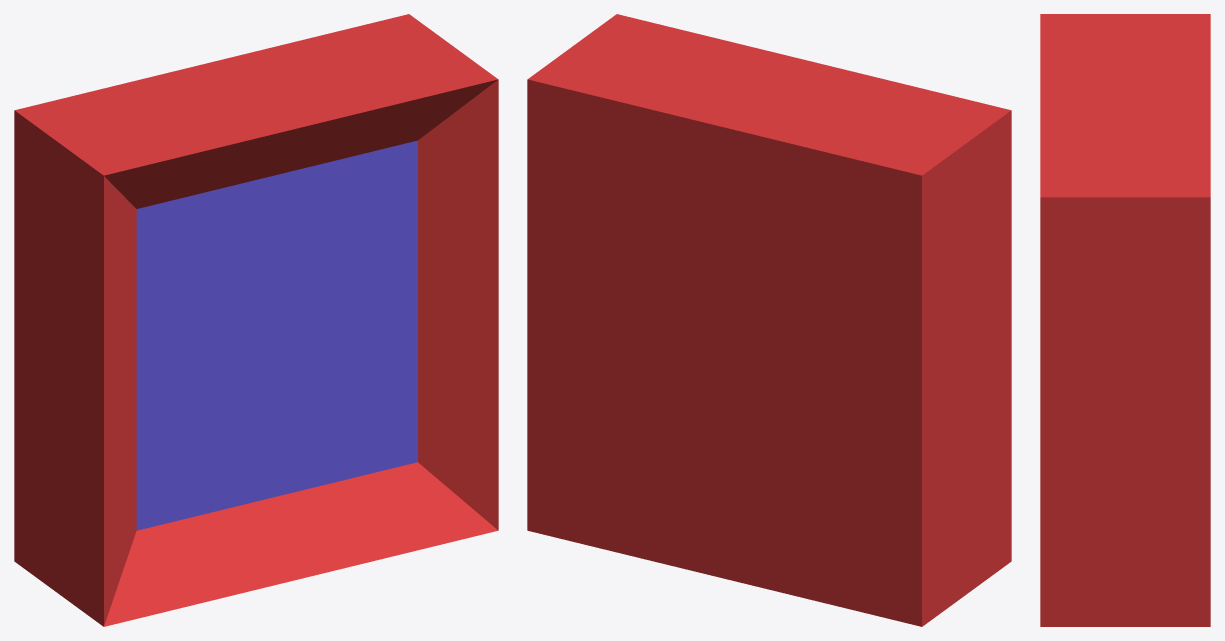
The model's file is MirrorUV.fbx.
3 views of the same model, side by side, from view 1: azimuth 30°, elevation 25°; view 2: azimuth 150°, elevation 25°; view 3: azimuth 270°, elevation 25° (orthographic). The views are drawn at different scales.
Parts seen in each view (by area): view 1: Cube.013; view 2: Cube.013; view 3: Cube.013.
Part boxes in pixels (x1,y1,x2,y2): Cube.013: [14, 14, 498, 626]; Cube.013: [527, 14, 1011, 626]; Cube.013: [1040, 14, 1210, 626].
Bounding box in the file's own units: 73.22 × 80 × 28.72.
